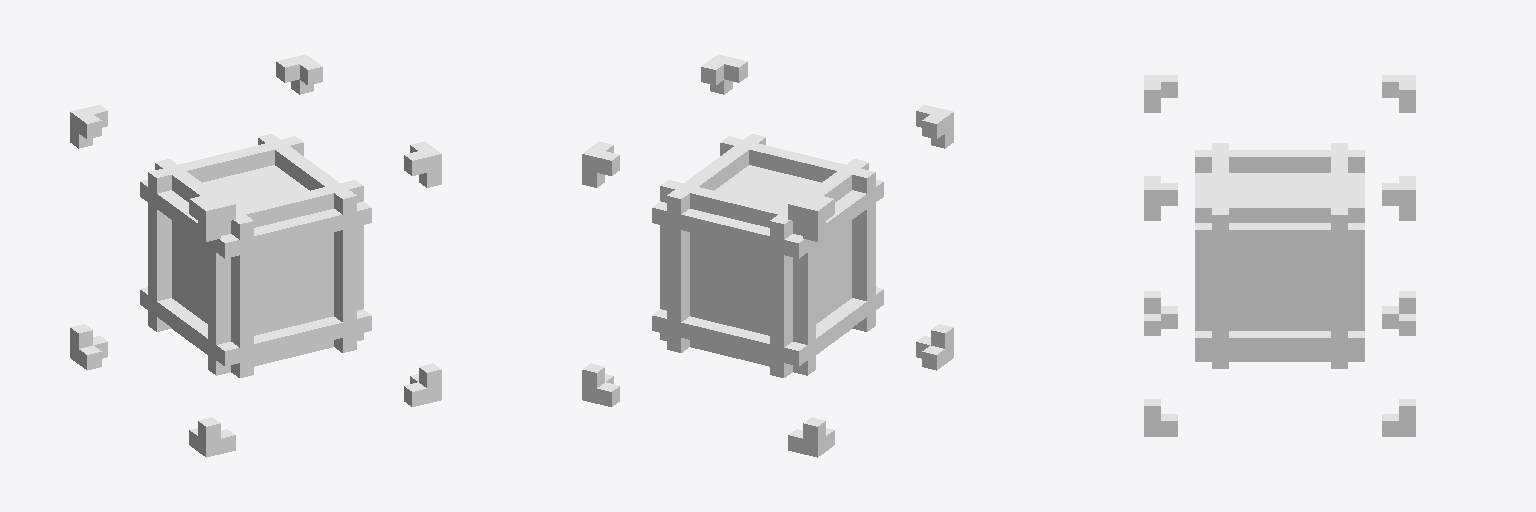
The model's file is ml_scalar_value_21.obj.
The picture shows the model from 3 angles: view 1: azimuth 30°, elevation 25°; view 2: azimuth 150°, elevation 25°; view 3: azimuth 270°, elevation 25°; orthographic projection.
Visible parts, largest first — view 1: ml_scalar_value_21; view 2: ml_scalar_value_21; view 3: ml_scalar_value_21.
Boxes of the visible parts, x1=… form: ml_scalar_value_21: x1=70, y1=54, x2=441, y2=457; ml_scalar_value_21: x1=582, y1=54, x2=953, y2=457; ml_scalar_value_21: x1=1144, y1=75, x2=1415, y2=436.
Bounding box in the file's own units: 0.8 × 0.8 × 0.8.